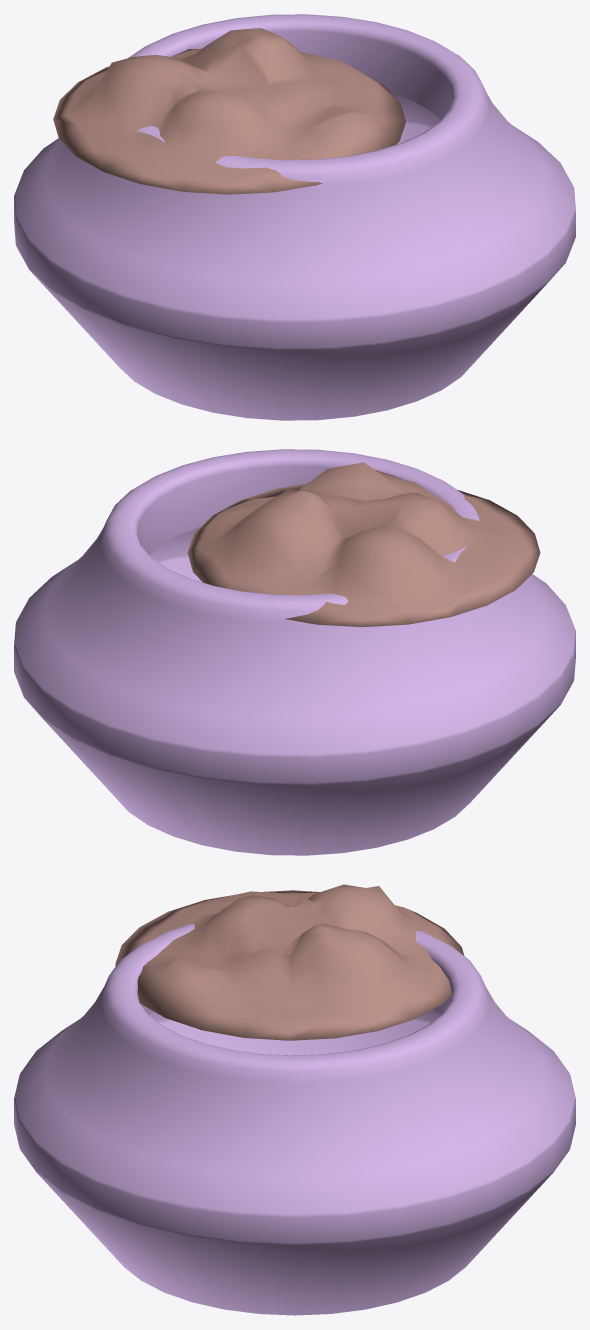
Rendered from pot_purple.glb.
The picture shows the model from 3 angles, top to bottom: view 1: azimuth 30°, elevation 25°; view 2: azimuth 150°, elevation 25°; view 3: azimuth 270°, elevation 25°; orthographic projection.
Parts seen in each view (by area): view 1: purple_圆环.004, purple_泥土.005; view 2: purple_圆环.004, purple_泥土.005; view 3: purple_圆环.004, purple_泥土.005.
Boxes of the visible parts, box(x1,y1,x2,y2) form: purple_圆环.004: box(14, 14, 575, 420); purple_泥土.005: box(53, 28, 405, 194); purple_圆环.004: box(14, 449, 575, 855); purple_泥土.005: box(187, 462, 540, 627); purple_圆环.004: box(14, 923, 575, 1315); purple_泥土.005: box(115, 884, 464, 1040).
Size of the model in its own units: 0.8458 by 0.4996 by 0.8458.
